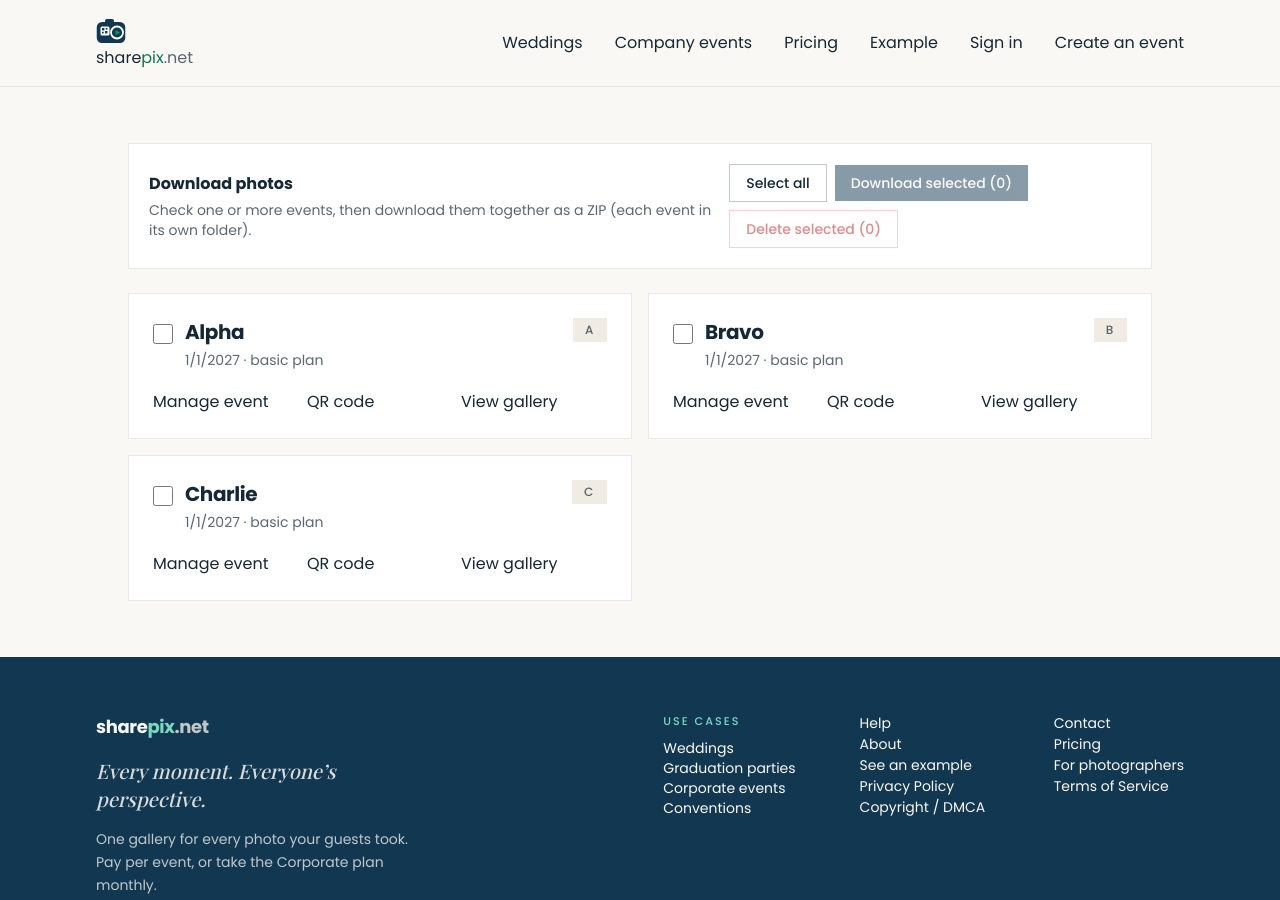
Test case: My events: Delete selected › cancel closes the dialog without deleting
Expected: the heading "Alpha" is shown, [185, 318, 244, 346]
Click the checkbox named "Select Alpha for download".
click(163, 334)  # box [153, 324, 173, 344]
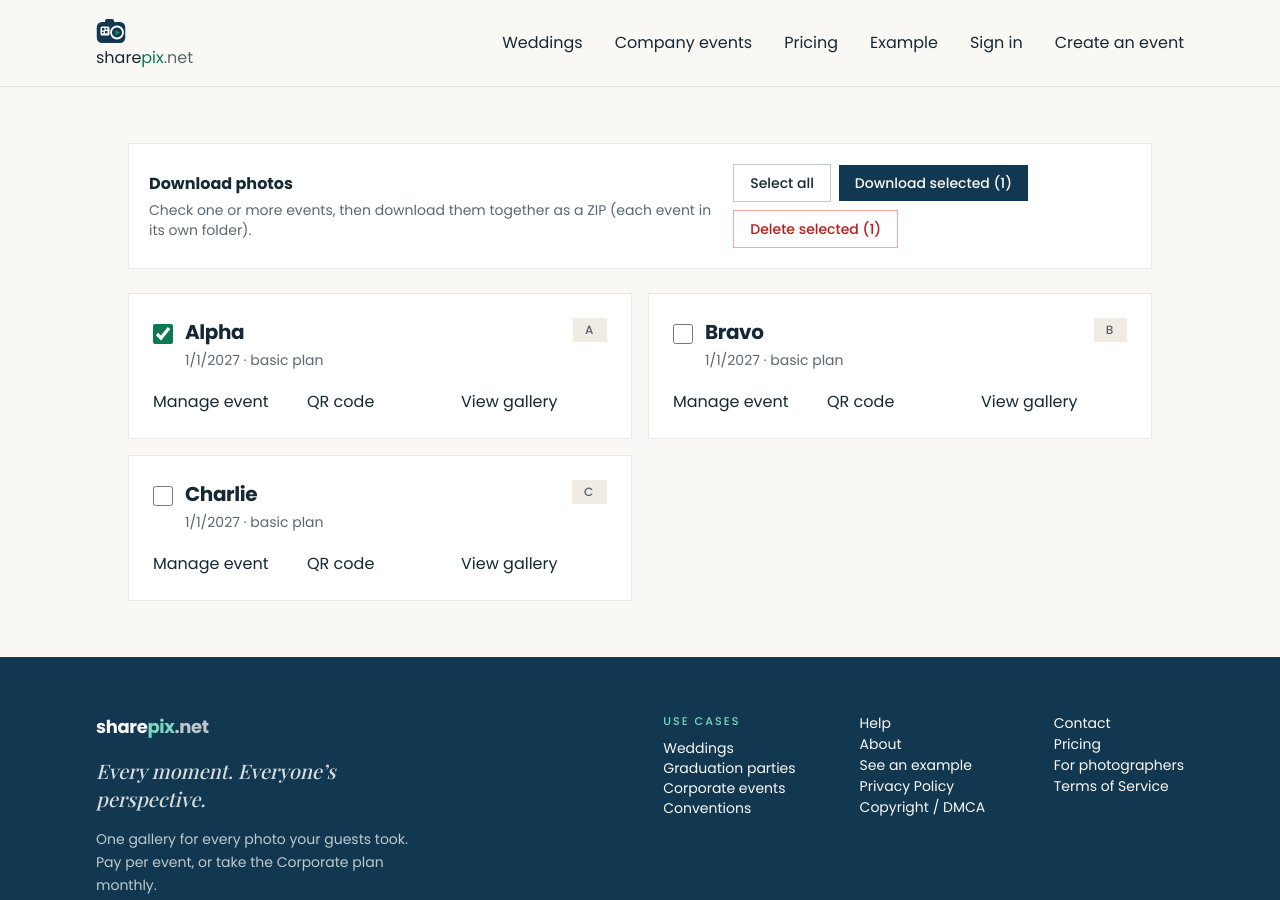
Click the button "Delete selected (1)".
click(816, 229)  # box [733, 210, 898, 248]
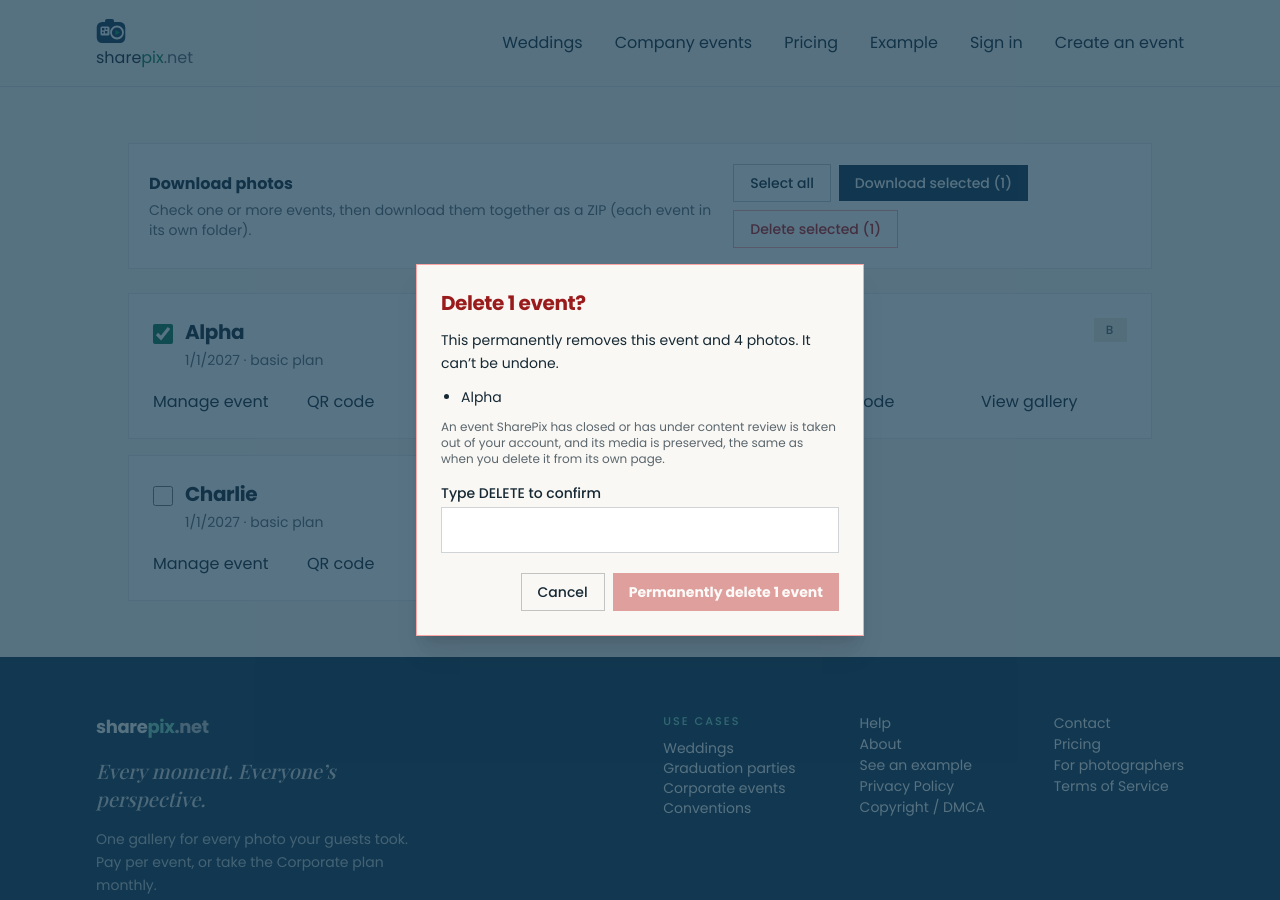
Click the button "Cancel".
click(563, 592)  # box [520, 573, 605, 611]
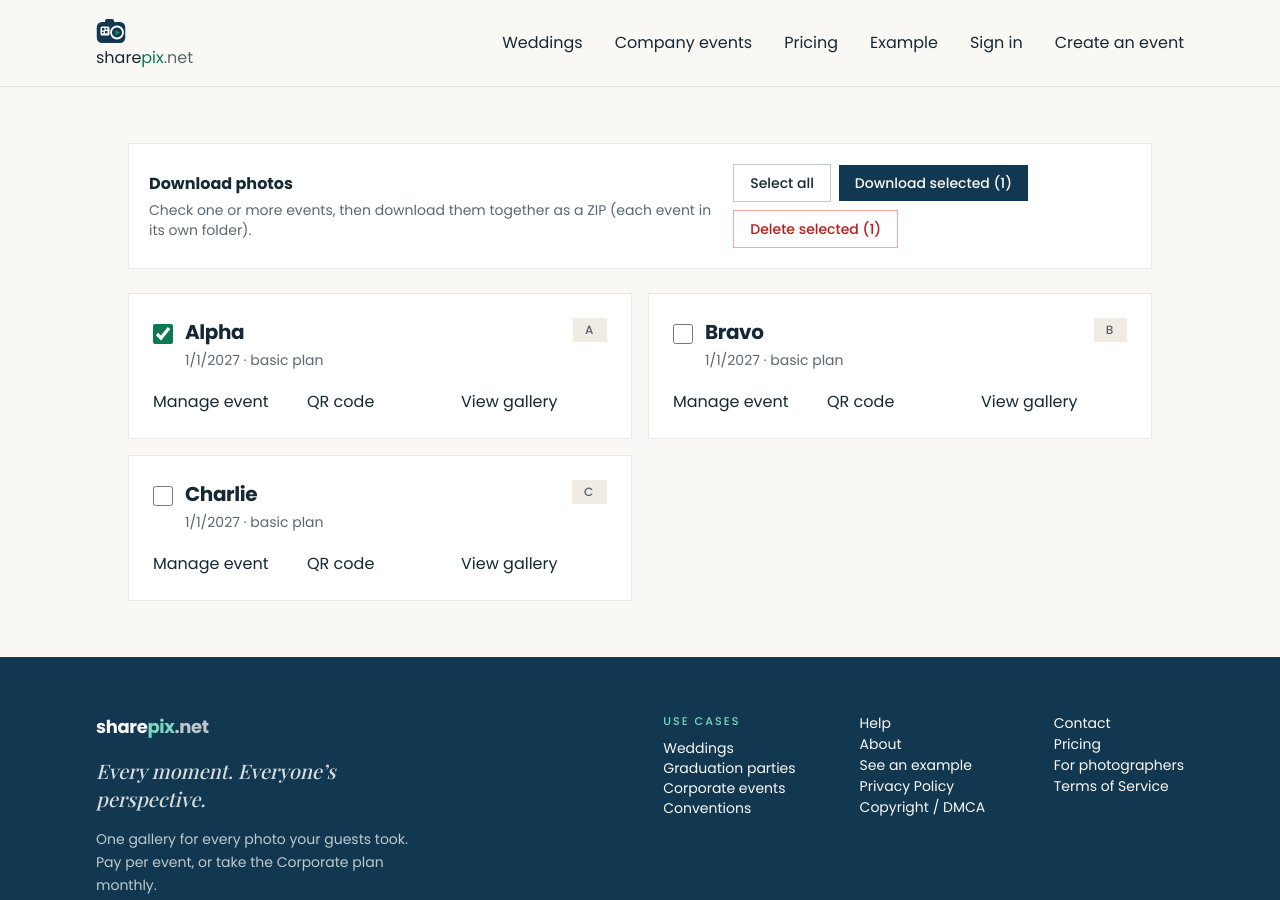
Expected: the dialog is gone
